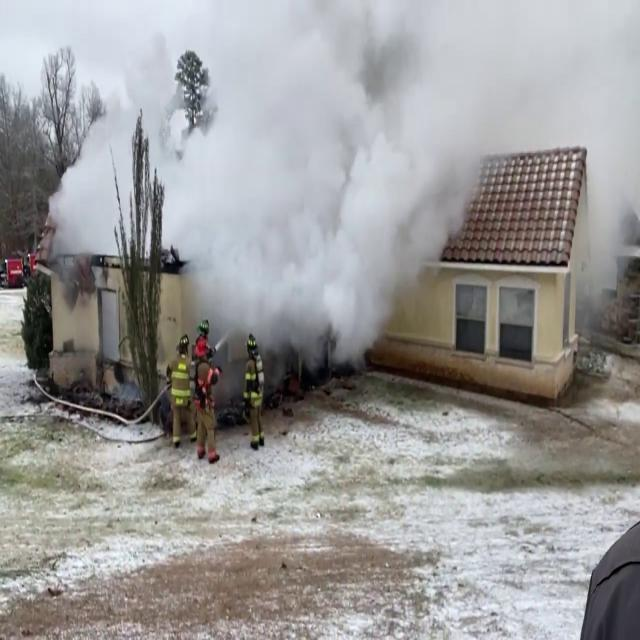Smoke: (31, 0, 638, 331)
